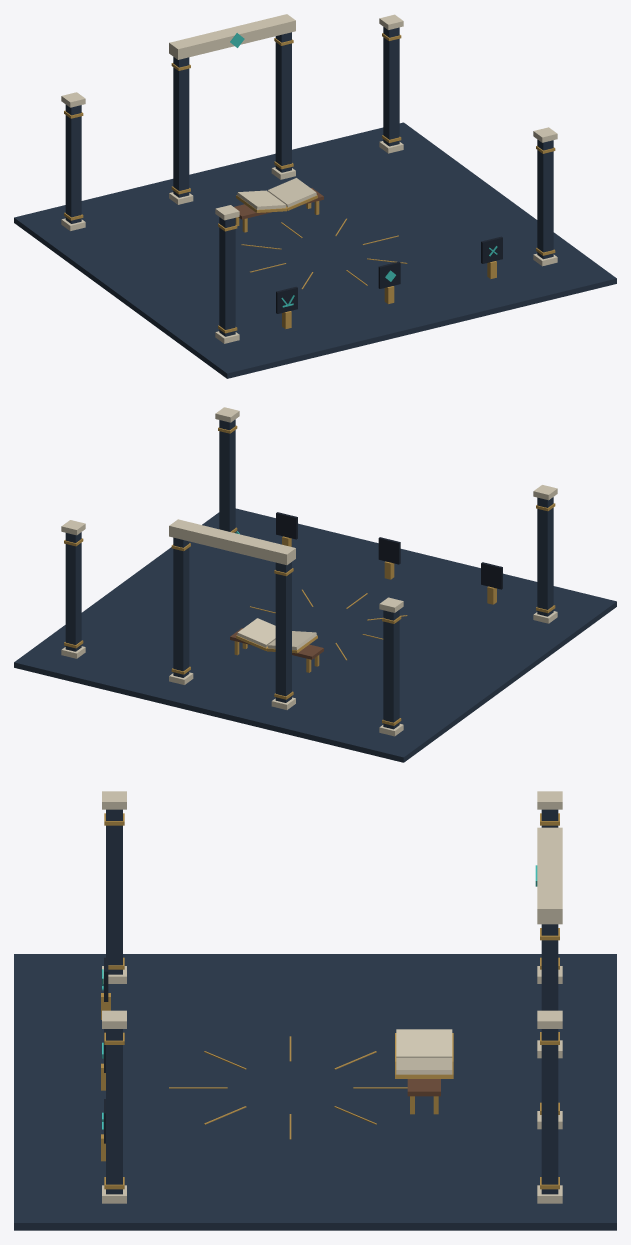
Rendered from first_ledger.glb.
The picture shows the model from 3 angles, top to bottom: view 1: azimuth 30°, elevation 25°; view 2: azimuth 150°, elevation 25°; view 3: azimuth 270°, elevation 25°; orthographic projection. The views are drawn at different scales.
Visible parts, largest first — view 1: first_ledger; view 2: first_ledger; view 3: first_ledger.
Part boxes in pixels (bbox=[...]): first_ledger: bbox=[14, 14, 616, 378]; first_ledger: bbox=[14, 407, 616, 762]; first_ledger: bbox=[14, 791, 616, 1230].
Size of the model in its own units: 76 by 30.41 by 72.
